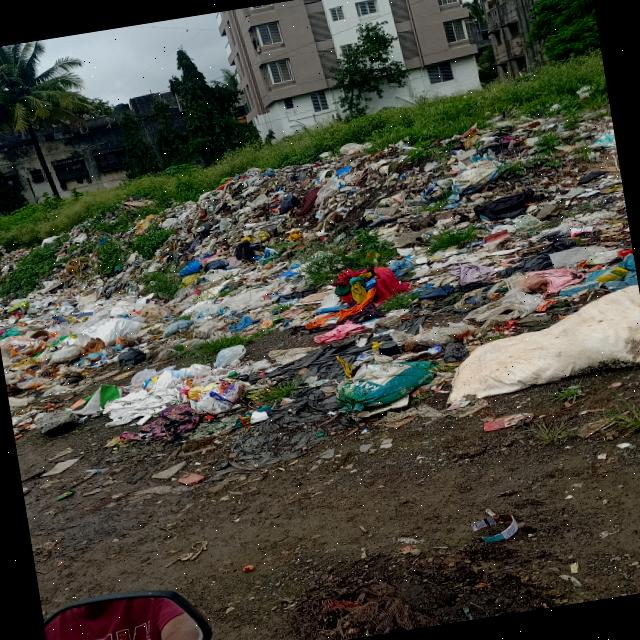garbage: (168, 109, 640, 436), (0, 208, 227, 449)
